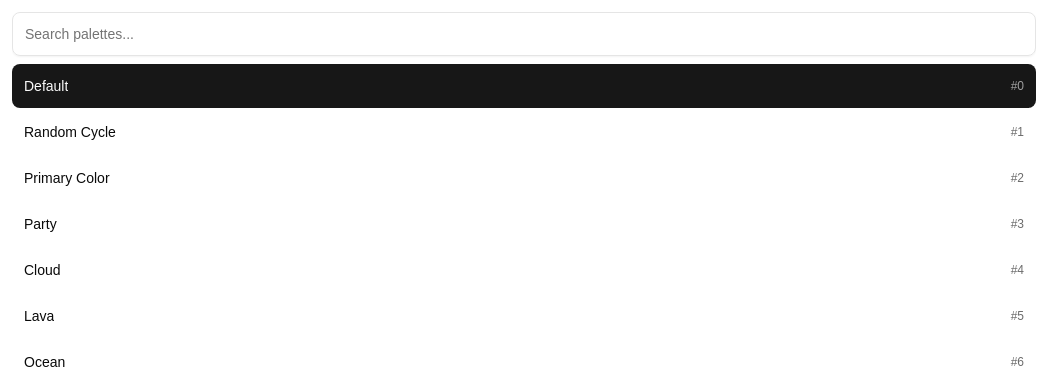
Test: PaletteBrowser › search input filters palette list by name
The width and height of the screenshot is (1048, 384).
In the field with placeholder "Search palettes...": [524, 34] box x1=12 y1=12 x2=1036 y2=56, type "cloud"
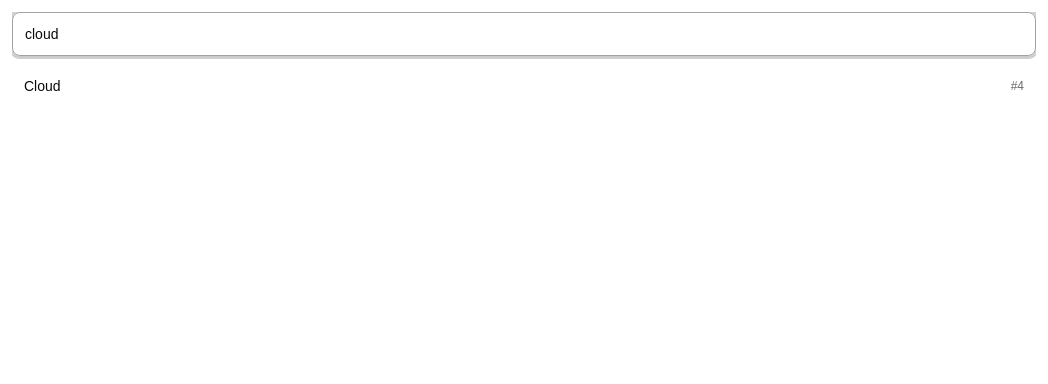
Check: the text "Cloud" is shown, box x1=24 y1=76 x2=61 y2=96
Check: the button "Party" is gone
